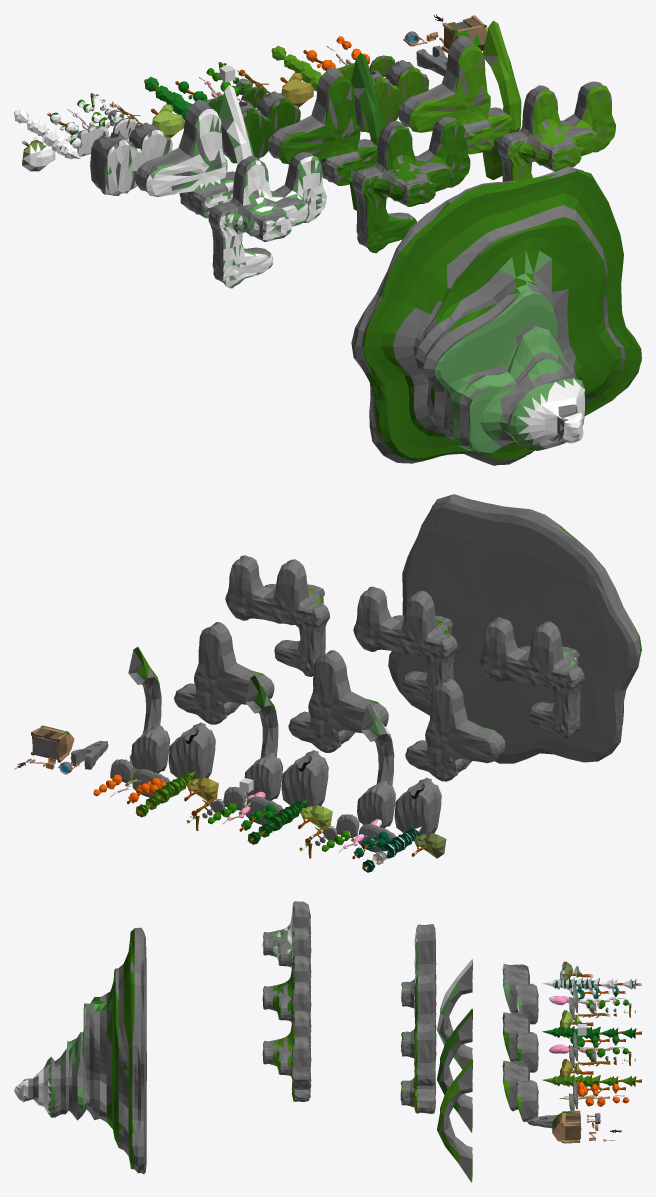
File: alternative.fbx
3 renders of one model, top to bottom at view 1: azimuth 30°, elevation 25°; view 2: azimuth 150°, elevation 25°; view 3: azimuth 270°, elevation 25°, orthographic. The views are drawn at different scales.
Visible parts, largest first — view 1: Mountain, Winter Cliff 3, Summer Cliff 3, Autumn Cliff 3, Summer Cliff 2, Winter Cliff 2, Autumn Cliff 2, Winter Cave, Autumn Arch, Summer Arch, Summer Cave, Winter Arch (+10 smaller); view 2: Mountain, Winter Cliff 3, Autumn Cliff 3, Summer Cliff 3, Winter Cliff 2, Summer Cliff 2, Autumn Cliff 2, Winter Cave, Summer Cave, Autumn Cave, Autumn Arch, Autumn Cliff 1 (+9 smaller); view 3: Mountain, Autumn Cliff 3, Autumn Cliff 2, Summer Cliff 3, Winter Cliff 3, Autumn Arch, Summer Arch, Winter Arch, Winter Cliff 2, Summer Cliff 2, Autumn Cave, Winter Cave (+5 smaller).
Part boxes in pixels (<box>): Mountain: <box>351,166,641,465</box>; Winter Cliff 3: <box>208,152,326,288</box>; Summer Cliff 3: <box>352,117,470,253</box>; Autumn Cliff 3: <box>498,81,615,181</box>; Summer Cliff 2: <box>267,67,377,185</box>; Winter Cliff 2: <box>134,100,235,218</box>; Autumn Cliff 2: <box>398,35,512,154</box>; Winter Cave: <box>90,132,144,195</box>; Autumn Arch: <box>482,20,521,180</box>; Summer Arch: <box>350,53,385,210</box>; Summer Cave: <box>221,101,272,163</box>; Winter Arch: <box>219,85,254,164</box>; Mountain: <box>388,494,641,763</box>; Winter Cliff 3: <box>480,617,584,738</box>; Autumn Cliff 3: <box>225,555,329,676</box>; Summer Cliff 3: <box>353,586,458,702</box>; Winter Cliff 2: <box>405,679,505,781</box>; Summer Cliff 2: <box>288,650,388,752</box>; Autumn Cliff 2: <box>174,622,274,724</box>; Winter Cave: <box>394,777,441,835</box>; Summer Cave: <box>281,750,328,807</box>; Autumn Cave: <box>168,722,215,779</box>; Autumn Arch: <box>128,647,161,783</box>; Autumn Cliff 1: <box>131,725,169,773</box>; Mountain: <box>14,927,146,1174</box>; Autumn Cliff 3: <box>262,1010,311,1101</box>; Autumn Cliff 2: <box>400,1023,435,1113</box>; Summer Cliff 3: <box>262,955,311,1033</box>; Winter Cliff 3: <box>262,901,311,979</box>; Autumn Arch: <box>437,1058,472,1182</box>; Summer Arch: <box>437,1008,472,1132</box>; Winter Arch: <box>437,959,472,1069</box>; Winter Cliff 2: <box>401,924,436,1008</box>; Summer Cliff 2: <box>401,974,436,1060</box>; Autumn Cave: <box>502,1060,529,1111</box>; Winter Cave: <box>502,963,529,1013</box>.
Size of the model in its own units: 92.13 by 55.61 by 141.
